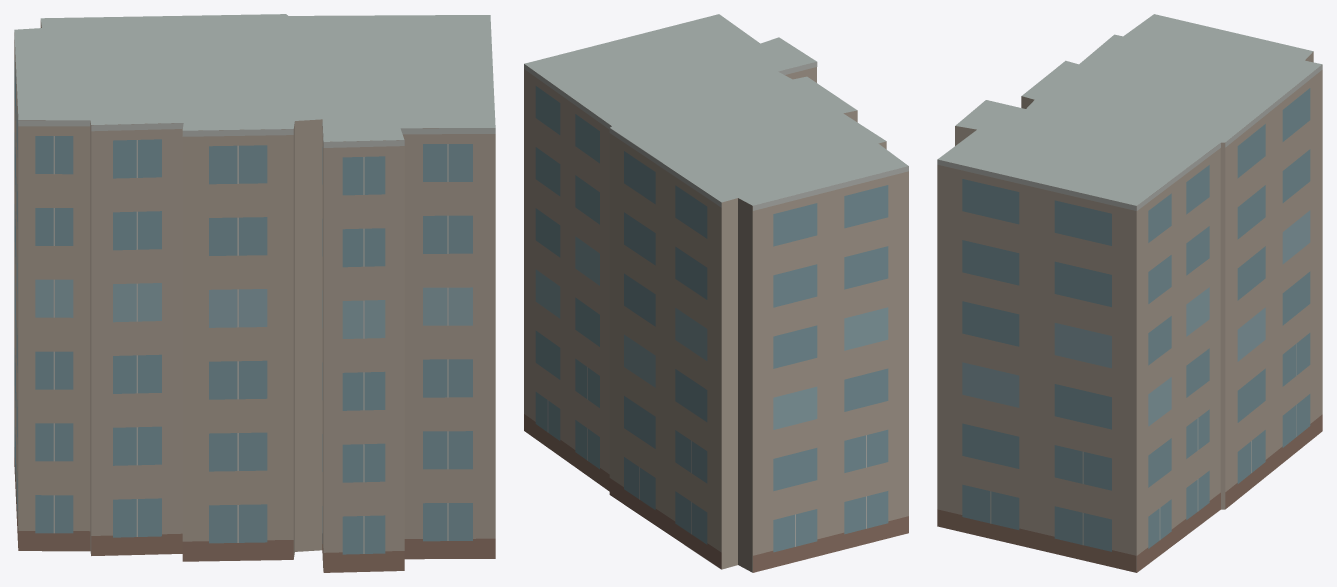
The model's file is survey-upis-32665918.glb.
3 renders of one model, left to right at view 1: azimuth 30°, elevation 25°; view 2: azimuth 150°, elevation 25°; view 3: azimuth 270°, elevation 25°, orthographic. The views are drawn at different scales.
Visible parts, largest first — view 1: survey-upis-32665918.tmp; view 2: survey-upis-32665918.tmp; view 3: survey-upis-32665918.tmp.
Part boxes in pixels (bbox=[...]): survey-upis-32665918.tmp: bbox=[14, 14, 495, 572]; survey-upis-32665918.tmp: bbox=[524, 14, 908, 572]; survey-upis-32665918.tmp: bbox=[937, 14, 1322, 572].
Size of the model in its own units: 19.3 by 17.2 by 16.37.
